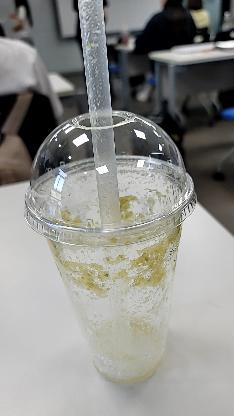Plastic Cup: (22, 108, 198, 386), (20, 108, 202, 246)
